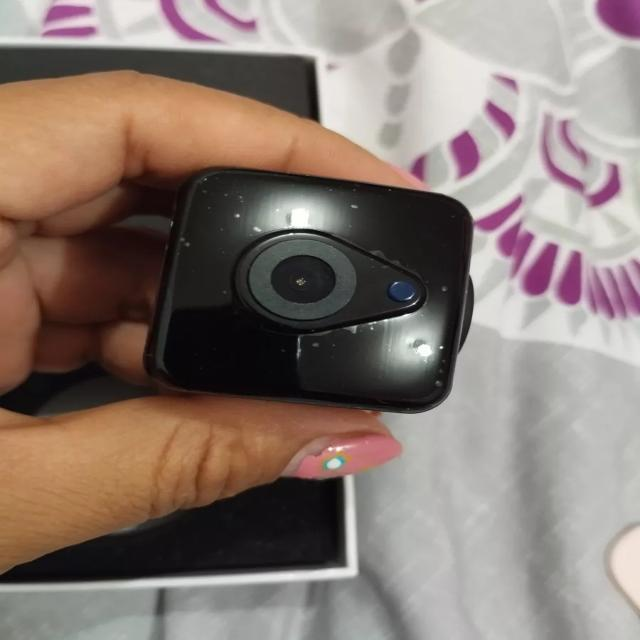hidden camera: (269, 254, 339, 305)
